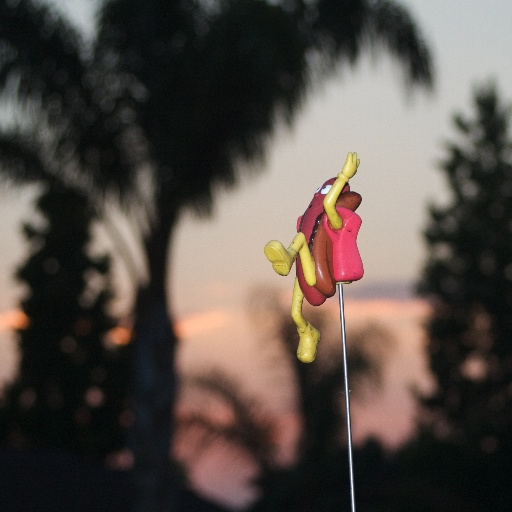hand: (340, 151, 361, 178)
